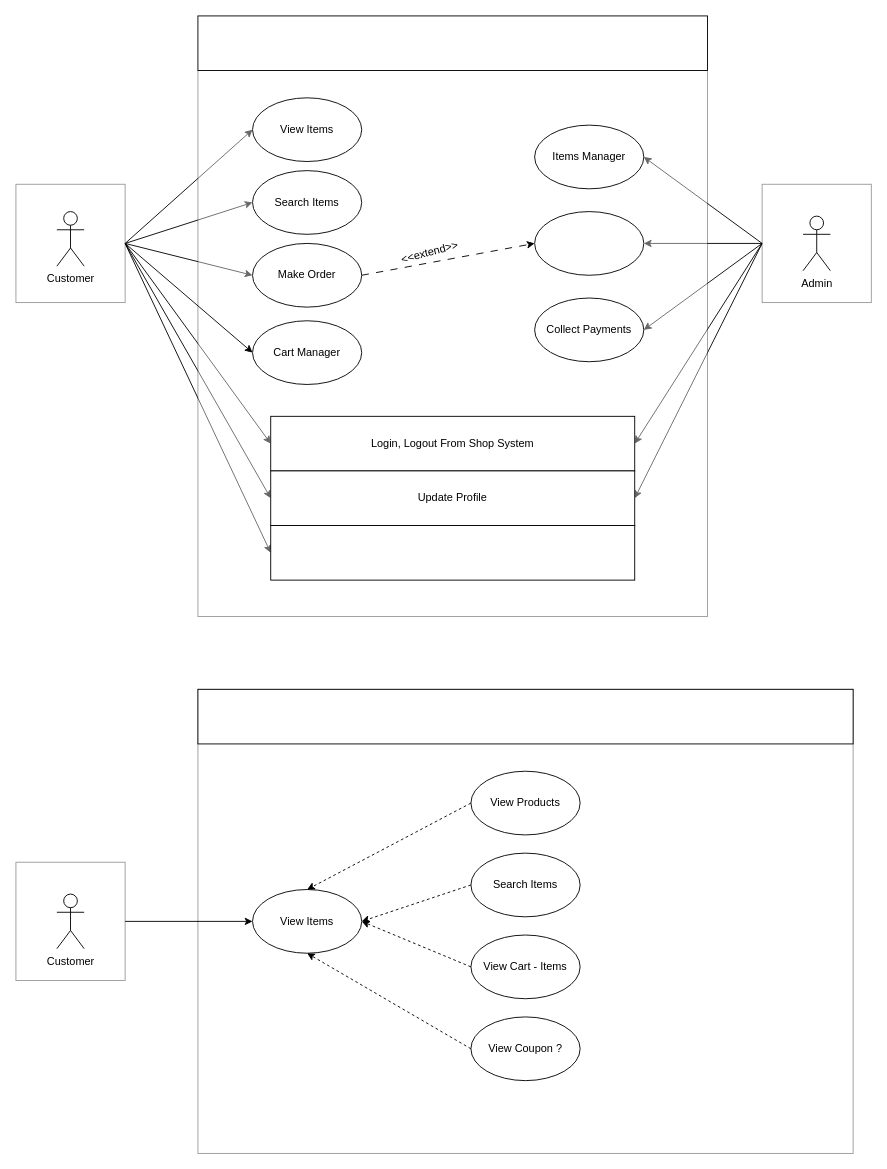
Some shapes in this 887 by 1169 pixel diagram are drawn without their labels. Each missing label, with the centre of its shape:
"Order Manage" goes at (589,243).
"Register For New Account" goes at (452,552).
"Use - Case Diagram Of Whole System" goes at (452,43).
"View Items Function" goes at (525,716).
